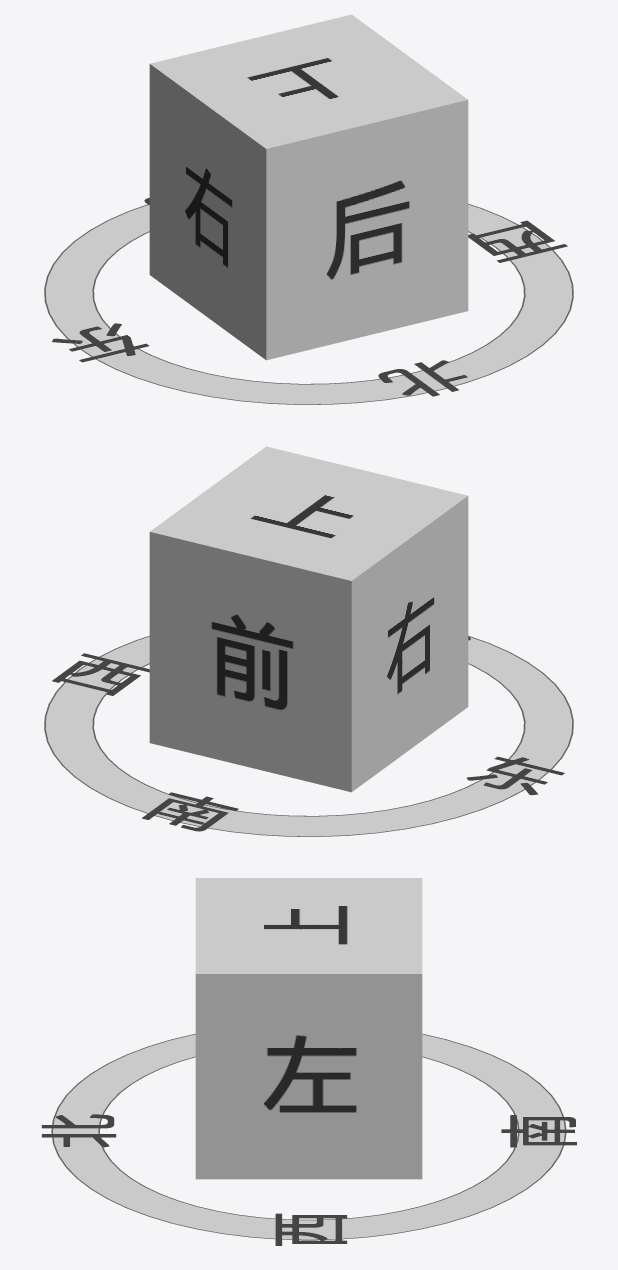
The picture shows the model from 3 angles, top to bottom: view 1: azimuth 30°, elevation 25°; view 2: azimuth 150°, elevation 25°; view 3: azimuth 270°, elevation 25°; orthographic projection. The views are drawn at different scales.
Visible parts, largest first — view 1: Object033, Object022, Object025, Object021, Object020, Object014, Object013, Object017, Object009, Object019, Object012, Object016 (+12 smaller); view 2: Object033, Object024, Object025, Object021, Object019, Object016, Object013, Object018, Object011, Object020, Object012, Object014 (+12 smaller); view 3: Object023, Object033, Object021, Object015, Object010, Object017, Object018, Cylinder001, Object013, Object014, Object016, Object007 (+8 smaller).
Boxes of the visible parts, <box> form: Object033: <box>45,204,572,404</box>; Object022: <box>296,139,437,320</box>; Object025: <box>167,108,248,315</box>; Object021: <box>198,34,419,128</box>; Object020: <box>249,168,296,328</box>; Object014: <box>279,94,437,172</box>; Object013: <box>167,69,278,167</box>; Object017: <box>438,131,468,286</box>; Object009: <box>296,287,437,352</box>; Object019: <box>149,95,167,255</box>; Object012: <box>167,256,248,347</box>; Object016: <box>180,22,338,68</box>; Object033: <box>45,636,572,836</box>; Object024: <box>180,571,321,752</box>; Object025: <box>369,540,450,747</box>; Object021: <box>198,466,419,560</box>; Object019: <box>321,600,368,760</box>; Object016: <box>180,526,338,604</box>; Object013: <box>339,501,450,599</box>; Object018: <box>149,563,179,718</box>; Object011: <box>180,719,321,784</box>; Object020: <box>450,527,468,687</box>; Object012: <box>369,688,450,779</box>; Object014: <box>279,454,437,500</box>; Object023: <box>229,1004,388,1148</box>; Object033: <box>53,1034,564,1239</box>; Object021: <box>229,892,388,959</box>; Object015: <box>229,959,388,1004</box>; Object010: <box>229,1148,388,1179</box>; Object017: <box>195,1004,229,1148</box>; Object018: <box>388,1004,422,1148</box>; Cylinder001: <box>51,1033,566,1240</box>; Object013: <box>229,878,388,892</box>; Object014: <box>195,892,229,959</box>; Object016: <box>388,892,422,959</box>; Object007: <box>195,959,229,1004</box>.
Bounding box in the file's own units: 260 × 100 × 260.
Materials: 1 (1 with a texture image).
